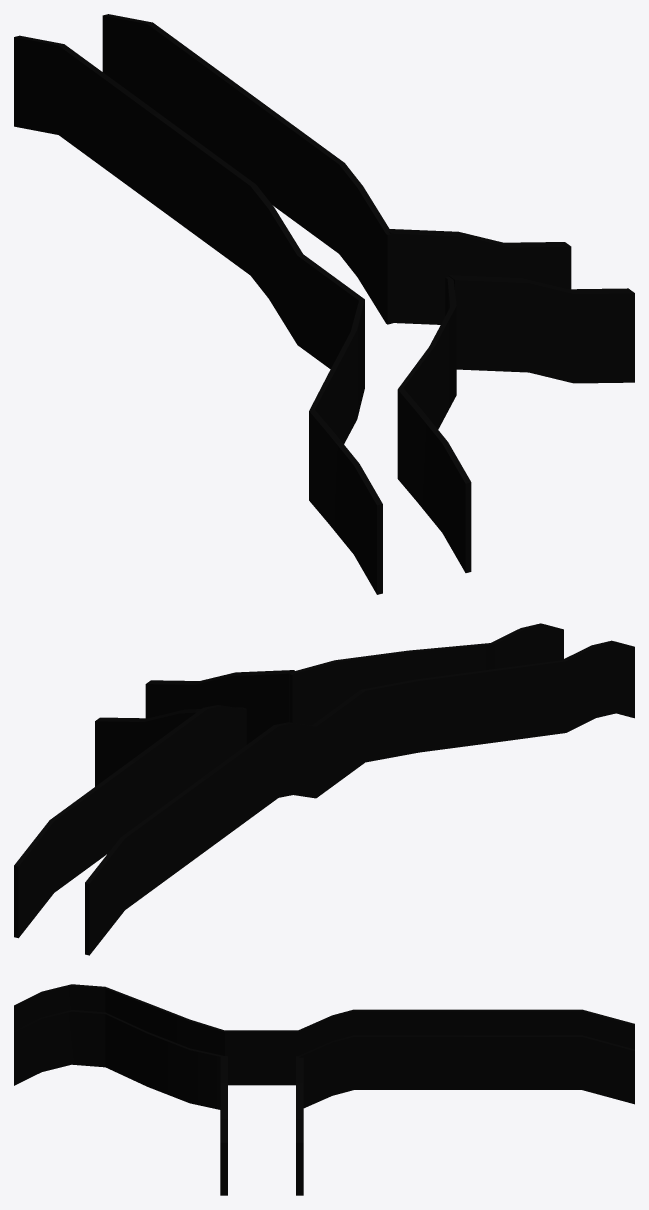
The model's file is ViadutoBarreiras.fbx.
3 renders of one model, top to bottom at view 1: azimuth 30°, elevation 25°; view 2: azimuth 150°, elevation 25°; view 3: azimuth 270°, elevation 25°, orthographic. The views are drawn at different scales.
Parts seen in each view (by area): view 1: Viaduto1.001; view 2: Viaduto1.001; view 3: Viaduto1.001.
Boxes of the visible parts, x1,y1,x2,y2 form: Viaduto1.001: (14, 14, 634, 594); Viaduto1.001: (14, 623, 634, 955); Viaduto1.001: (14, 984, 634, 1195).
Bounding box in the file's own units: 2154 × 862 × 4518.
